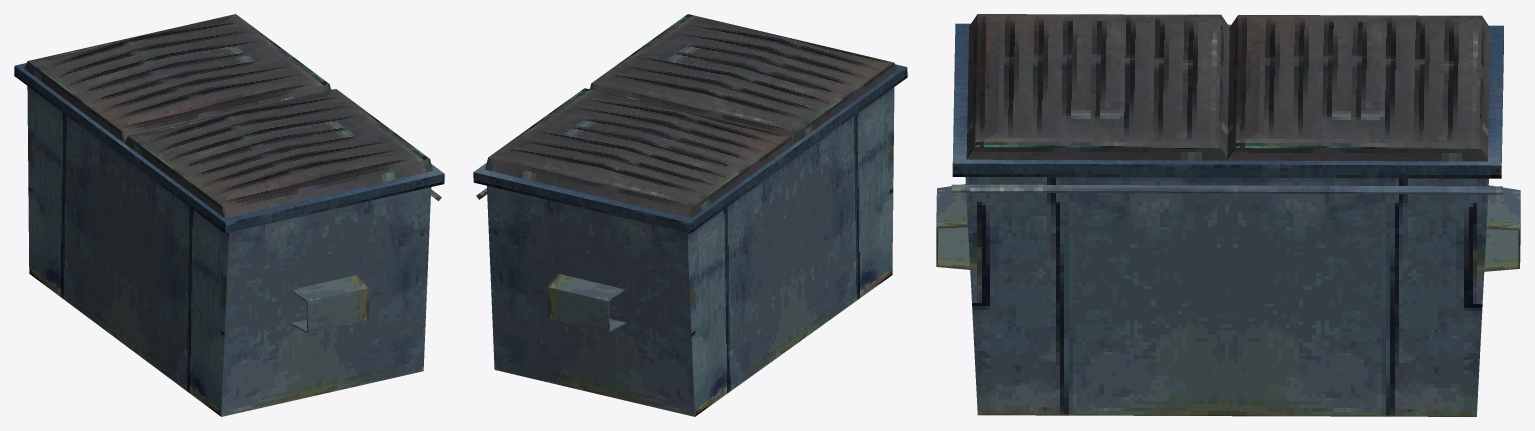
The model's file is dumpster_lid_closed_blue.glb.
3 renders of one model, left to right at view 1: azimuth 30°, elevation 25°; view 2: azimuth 150°, elevation 25°; view 3: azimuth 270°, elevation 25°, orthographic. The views are drawn at different scales.
Visible parts, largest first — view 1: dumpster_lid_closed_blue; view 2: dumpster_lid_closed_blue; view 3: dumpster_lid_closed_blue.
Part boxes in pixels (x1,y1,x2,y2): dumpster_lid_closed_blue: (14, 14, 444, 416); dumpster_lid_closed_blue: (473, 14, 907, 416); dumpster_lid_closed_blue: (936, 14, 1520, 416).
Size of the model in its own units: 2.06 by 1.96 by 3.68.
1 material, 1 textured.
